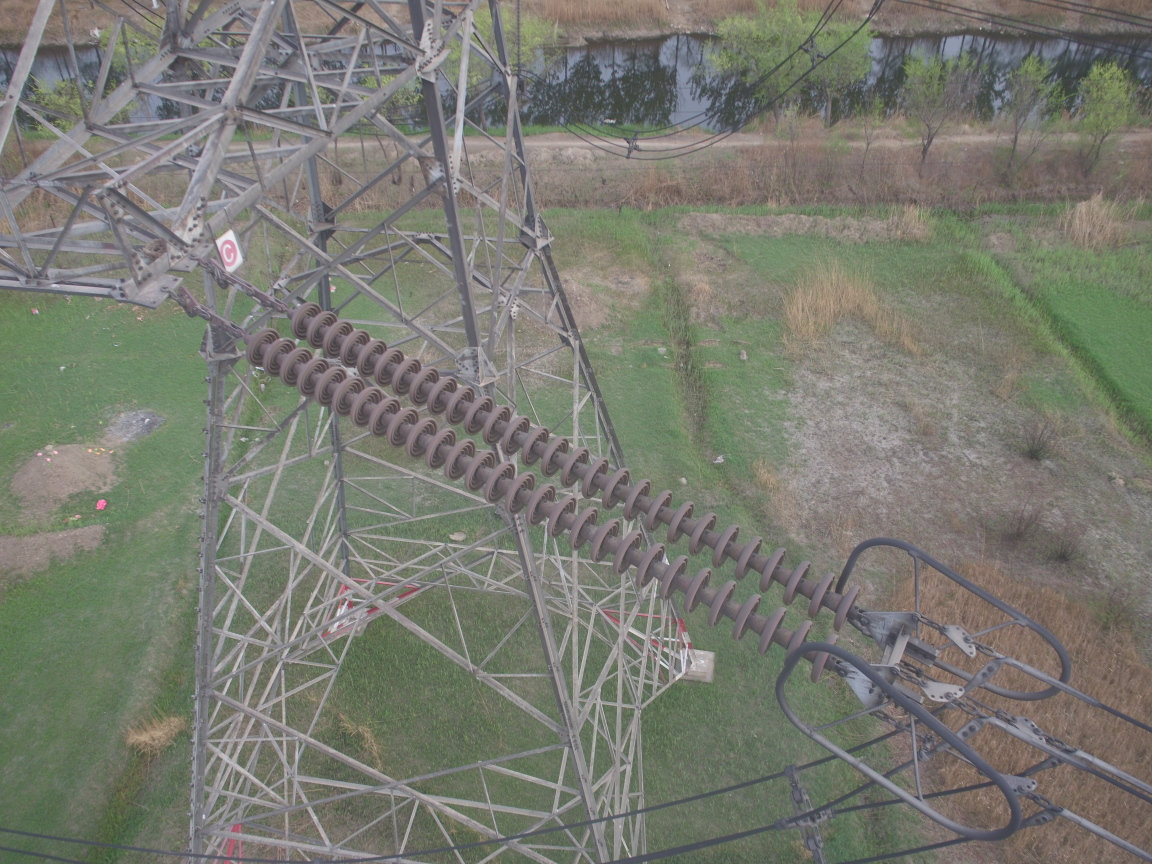insulator: (225, 281, 872, 687)
